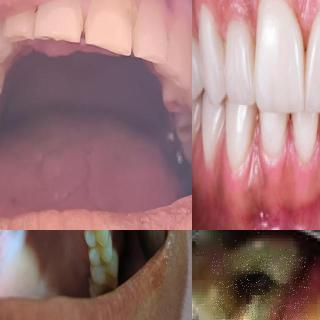calculus: (86, 272, 95, 292)
cavities: (222, 252, 294, 320)
plaque: (213, 34, 230, 78), (246, 27, 260, 77), (120, 0, 142, 30)
